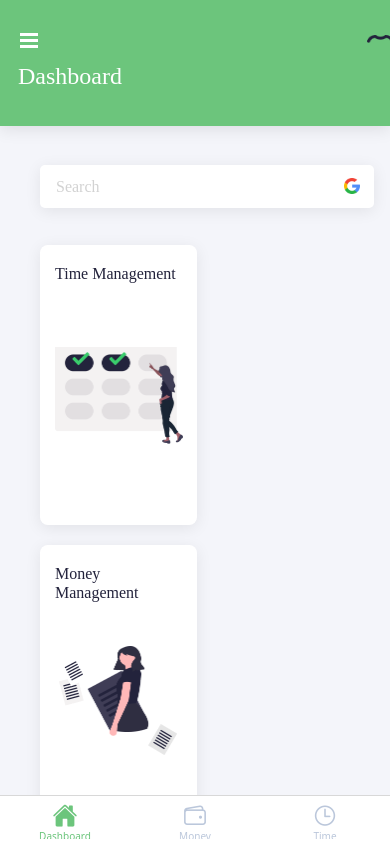
App › switches to the Time area when the Time tab is pressed
The width and height of the screenshot is (390, 844).
Click the tab with test id "tab-time" at (325, 823), box left=312, top=802, right=338, bottom=843
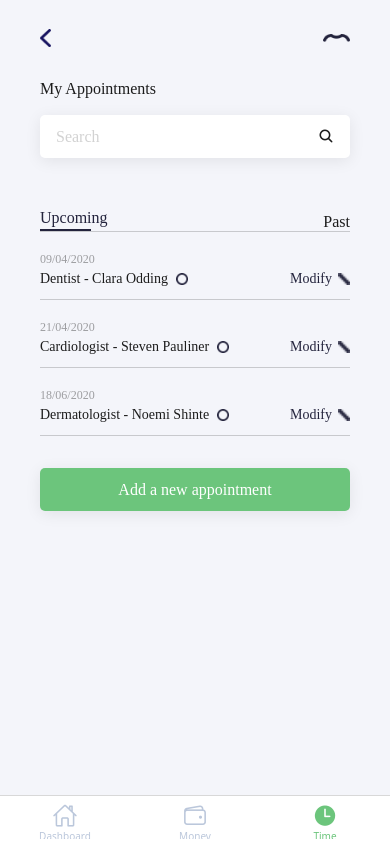
Expected: the tab with test id "tab-time" is selected, left=312, top=802, right=338, bottom=843
Expected: the text "My Appointments" is shown, left=40, top=80, right=156, bottom=97
